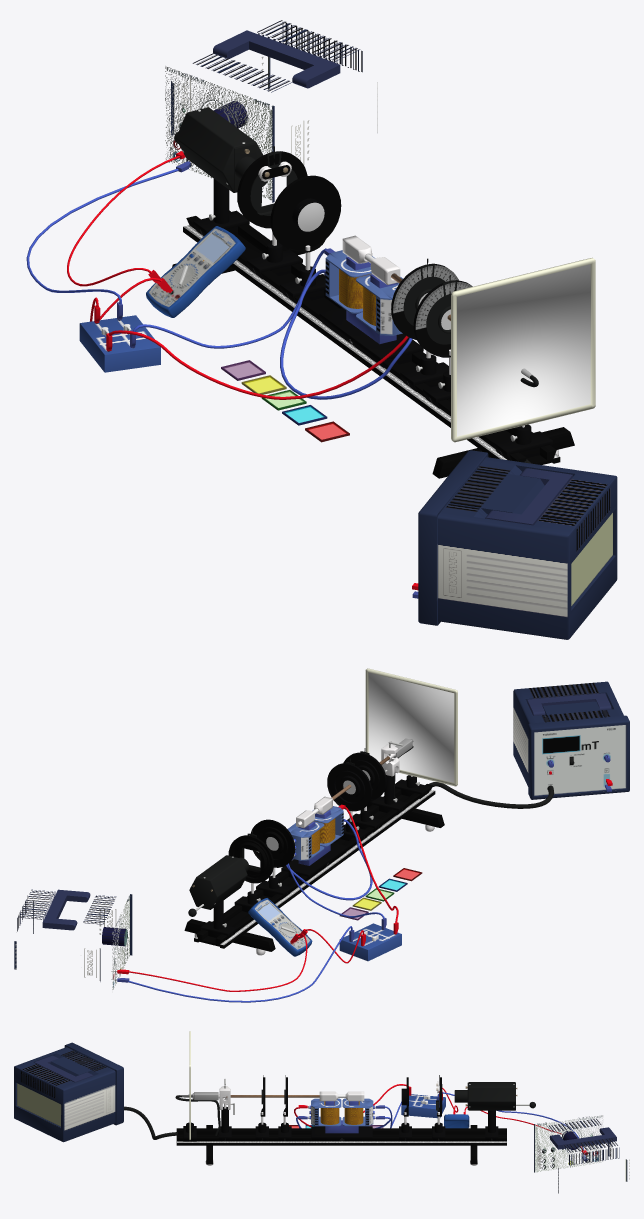
The model's file is P2260101 Efecto Faraday.fbx.
The picture shows the model from 3 angles, top to bottom: view 1: azimuth 30°, elevation 25°; view 2: azimuth 150°, elevation 25°; view 3: azimuth 270°, elevation 25°; orthographic projection. The views are drawn at different scales.
Parts seen in each view (by area): view 1: Teslametro, Pantalla, Fuente_de_Poder, OpticalBench, Multimetro3, CuerpoLampara, CuerpoMedidas, CommutatorSwitch, Manija_2, Base_Bobina, Manija, CuerpoMedidas_2 (+15 smaller); view 2: Teslametro, Pantalla, OpticalBench, Fuente_de_Poder, CuerpoLampara, Multimetro3, CuerpoMedidas_2.001, CommutatorSwitch, CuerpoMedidas, CuerpoMedidas_2, Manija_2, Manija (+11 smaller); view 3: Teslametro, OpticalBench, Fuente_de_Poder, CuerpoLampara, Base_Bobina, CommutatorSwitch, Manija_2, Sonda, Capa_Bobina_2, Capa_Bobina, Manija, Imán (+6 smaller).
Part boxes in pixels (x1,y1,x2,y2): Teslametro: (418, 450, 617, 639); Pantalla: (451, 257, 595, 442); Fuente_de_Poder: (165, 20, 377, 202); OpticalBench: (183, 210, 560, 464); Multimetro3: (146, 226, 245, 317); CuerpoLampara: (176, 107, 262, 192); CuerpoMedidas: (270, 175, 341, 252); CommutatorSwitch: (79, 315, 160, 372); Manija_2: (213, 30, 340, 88); Base_Bobina: (319, 308, 423, 367); Manija: (485, 468, 572, 525); CuerpoMedidas_2: (237, 151, 307, 228); Teslametro: (513, 681, 629, 799); Pantalla: (365, 668, 457, 786); OpticalBench: (194, 780, 435, 948); Fuente_de_Poder: (14, 889, 132, 989); CuerpoLampara: (189, 855, 247, 909); Multimetro3: (248, 898, 312, 956); CuerpoMedidas_2.001: (327, 763, 372, 811); CommutatorSwitch: (339, 923, 401, 961); CuerpoMedidas: (250, 819, 295, 867); CuerpoMedidas_2: (228, 835, 273, 883); Manija_2: (42, 889, 90, 930); Manija: (527, 693, 611, 715); Teslametro: (14, 1042, 123, 1142); OpticalBench: (176, 1128, 506, 1145); Fuente_de_Poder: (534, 1115, 629, 1193); CuerpoLampara: (468, 1082, 515, 1110); Base_Bobina: (311, 1126, 372, 1141); CommutatorSwitch: (401, 1094, 445, 1118); Manija_2: (549, 1127, 616, 1149); Sonda: (182, 1092, 319, 1100); Capa_Bobina_2: (342, 1098, 373, 1126); Capa_Bobina: (310, 1098, 341, 1126); Manija: (34, 1055, 93, 1082); Imán: (325, 1101, 358, 1133).
Size of the model in its own units: 78 by 34.86 by 186.
Materials: 36 (11 with a texture image).
